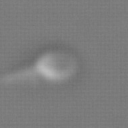normal: (1, 59, 34, 88)
